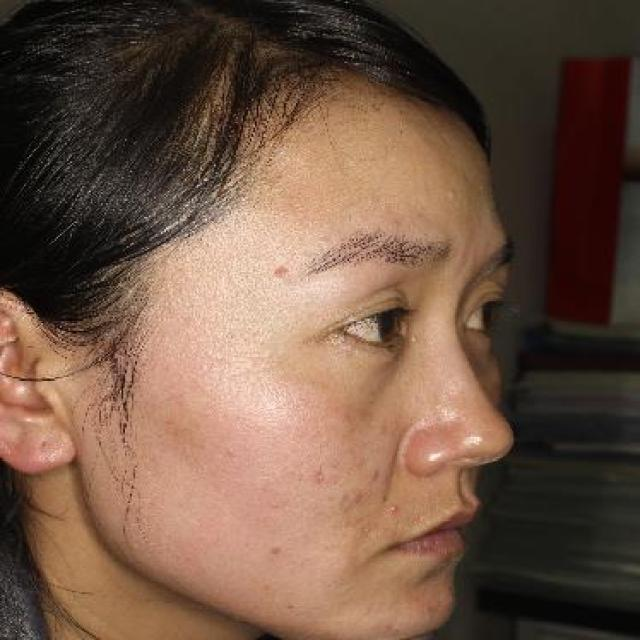Acne: (257, 538, 294, 564), (265, 257, 301, 283), (337, 485, 373, 506), (364, 462, 386, 484), (284, 600, 299, 615)
Whiteheads: (436, 182, 469, 209), (383, 498, 409, 520)
